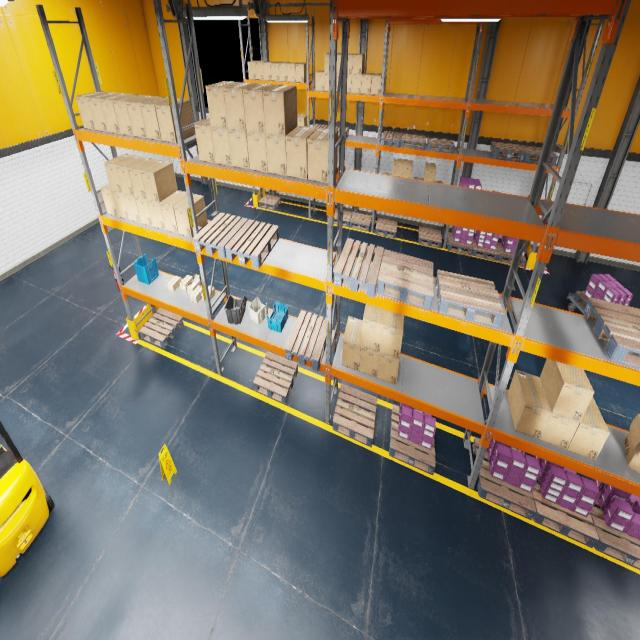box: (540, 358, 594, 422), (507, 370, 551, 439), (540, 378, 580, 449), (567, 396, 610, 460), (155, 98, 195, 143), (263, 84, 297, 136), (307, 128, 338, 183), (224, 82, 258, 131), (243, 84, 276, 134), (206, 81, 240, 129), (286, 126, 316, 180), (140, 160, 178, 202), (112, 94, 148, 136), (126, 95, 161, 138), (174, 193, 208, 237), (99, 93, 135, 134), (87, 92, 122, 132), (76, 90, 110, 130), (128, 158, 159, 199), (116, 155, 147, 196), (104, 154, 136, 193), (140, 97, 168, 141), (380, 309, 404, 359), (160, 190, 187, 234), (361, 304, 384, 352), (342, 316, 362, 371), (194, 117, 216, 163), (624, 414, 640, 474), (266, 134, 287, 176), (246, 132, 268, 172), (210, 127, 232, 166), (228, 129, 249, 169), (378, 353, 400, 385), (359, 346, 380, 378), (100, 183, 118, 216), (147, 200, 165, 230), (134, 197, 152, 226), (122, 194, 140, 223), (112, 191, 130, 220), (286, 62, 300, 82), (352, 53, 365, 74), (187, 274, 200, 294), (361, 73, 373, 94), (371, 73, 382, 95), (424, 162, 436, 182), (255, 61, 268, 79), (271, 61, 283, 80), (167, 276, 181, 291), (392, 158, 403, 177), (279, 62, 290, 81), (263, 61, 274, 80), (296, 62, 306, 82), (248, 60, 258, 80), (352, 74, 362, 94), (202, 286, 215, 301), (180, 275, 193, 290), (190, 286, 202, 302), (402, 159, 412, 178), (347, 53, 355, 74), (316, 70, 324, 90), (297, 114, 307, 126), (346, 74, 352, 93), (324, 53, 329, 73), (324, 73, 329, 91), (337, 53, 341, 73), (336, 73, 340, 92), (434, 180, 443, 183), (414, 177, 423, 180)
forklift: (0, 421, 55, 577)
pallets: (472, 436, 536, 520), (532, 480, 599, 548), (583, 297, 640, 368), (436, 270, 504, 328), (589, 500, 640, 570), (377, 249, 433, 310), (389, 404, 435, 475), (334, 238, 384, 298), (333, 383, 377, 447), (225, 220, 279, 268), (193, 212, 248, 258), (285, 310, 326, 371), (253, 352, 298, 404), (139, 308, 183, 349), (520, 144, 558, 164), (497, 242, 526, 267), (490, 142, 525, 160), (472, 238, 499, 260), (447, 232, 472, 255), (418, 226, 442, 248), (400, 133, 426, 150), (375, 218, 397, 238), (349, 212, 372, 231), (427, 137, 454, 153), (380, 130, 403, 148), (258, 194, 280, 210), (333, 209, 352, 227), (574, 291, 588, 310), (335, 126, 349, 139), (313, 124, 328, 128), (336, 180, 337, 185)
